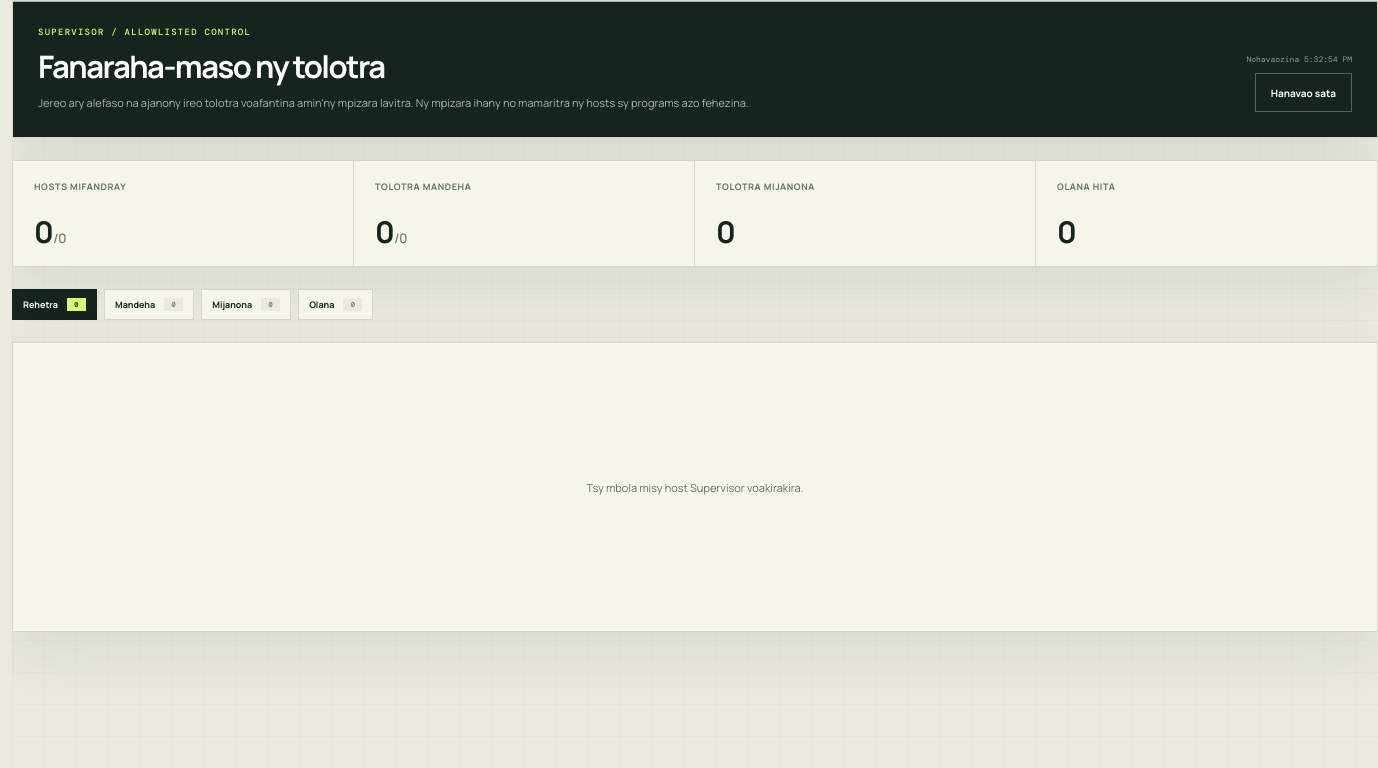
ServicesWorkspace › does not let an older poll overwrite a newer manual refresh
Click the button "Hanavao sata" at [1303, 93], box top-left (1255, 73), bottom-right (1352, 112)
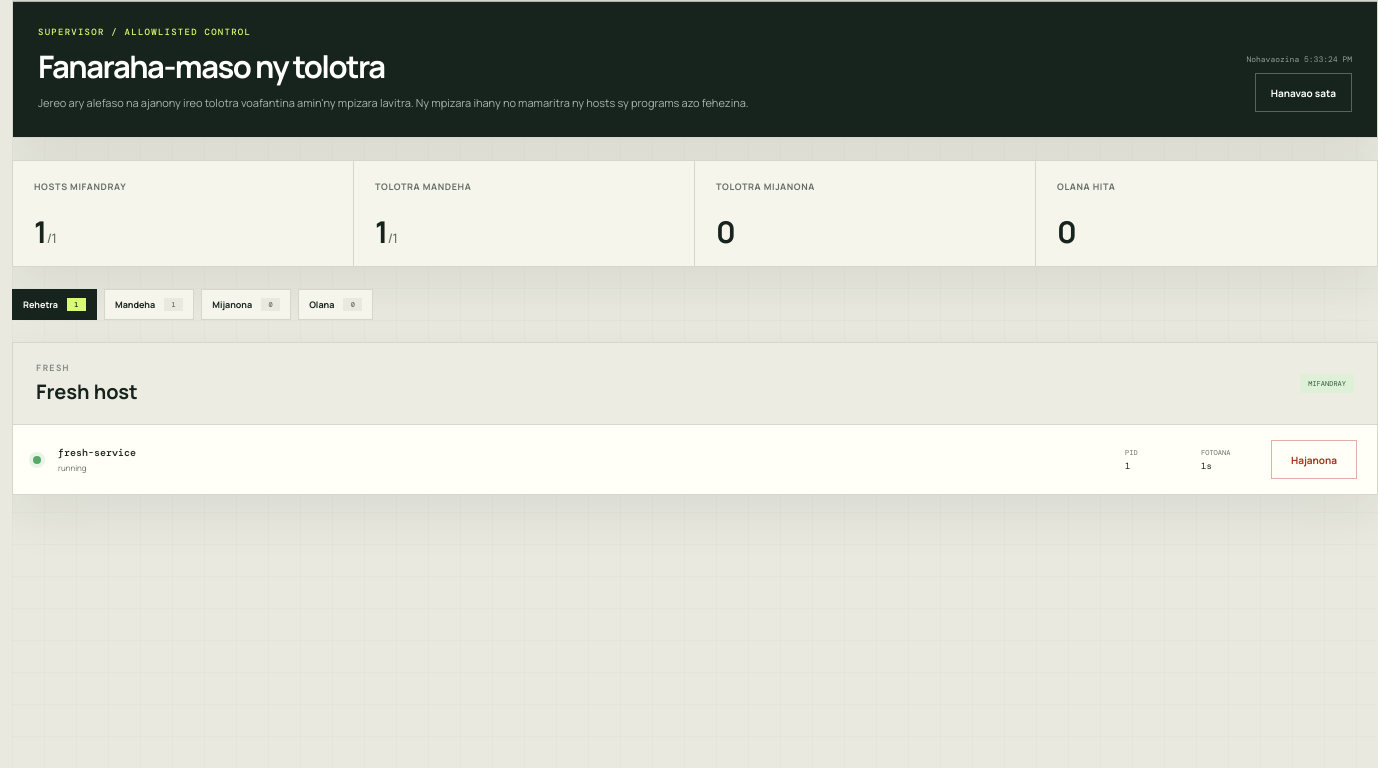
Check: the heading "Fresh host" is shown, box top-left (36, 378), bottom-right (138, 405)
